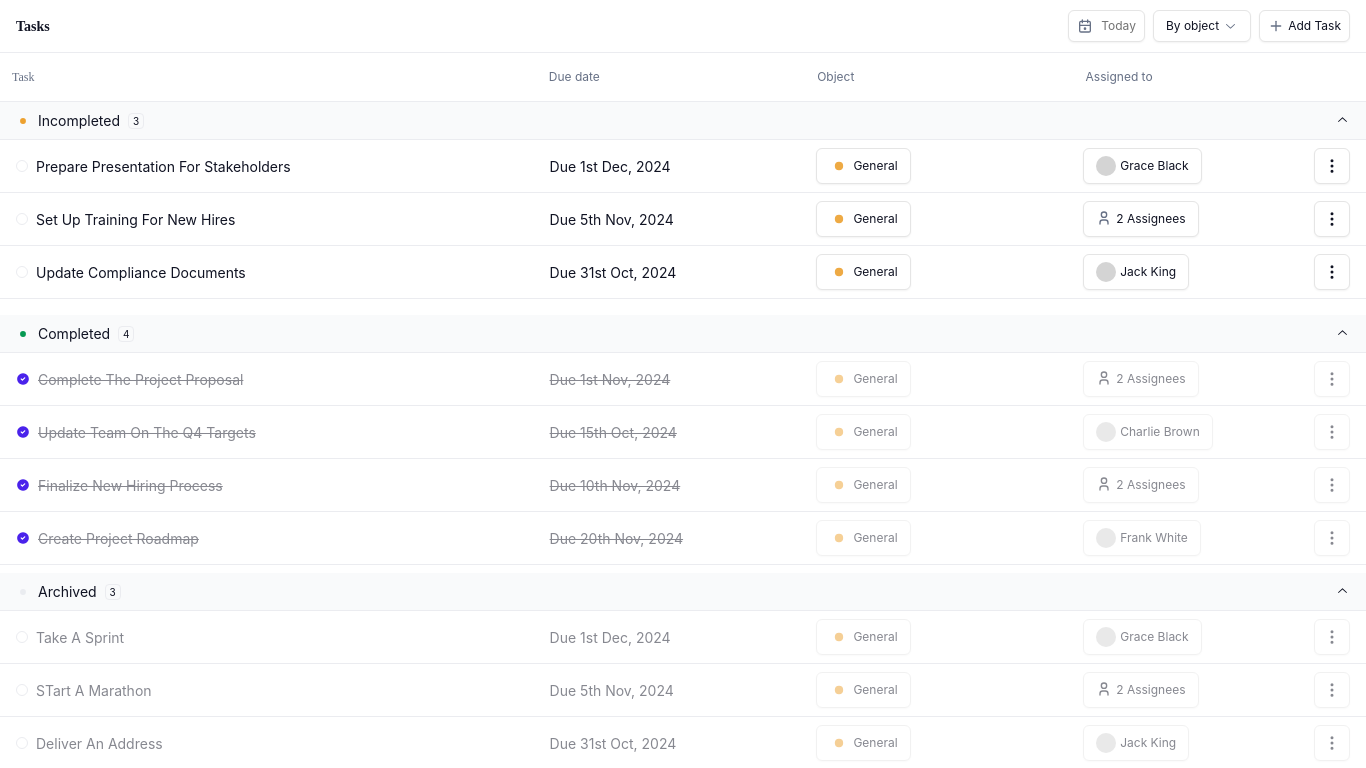
Test: MemberProfileTasksUI › toggles the viewing of completed tasks
This screenshot has width=1366, height=768.
Expected: the element with test id "completed-task-component" is shown, [0, 353, 1365, 573]
Click the element with test id "view-completed" at (683, 334), box [0, 315, 1365, 353]
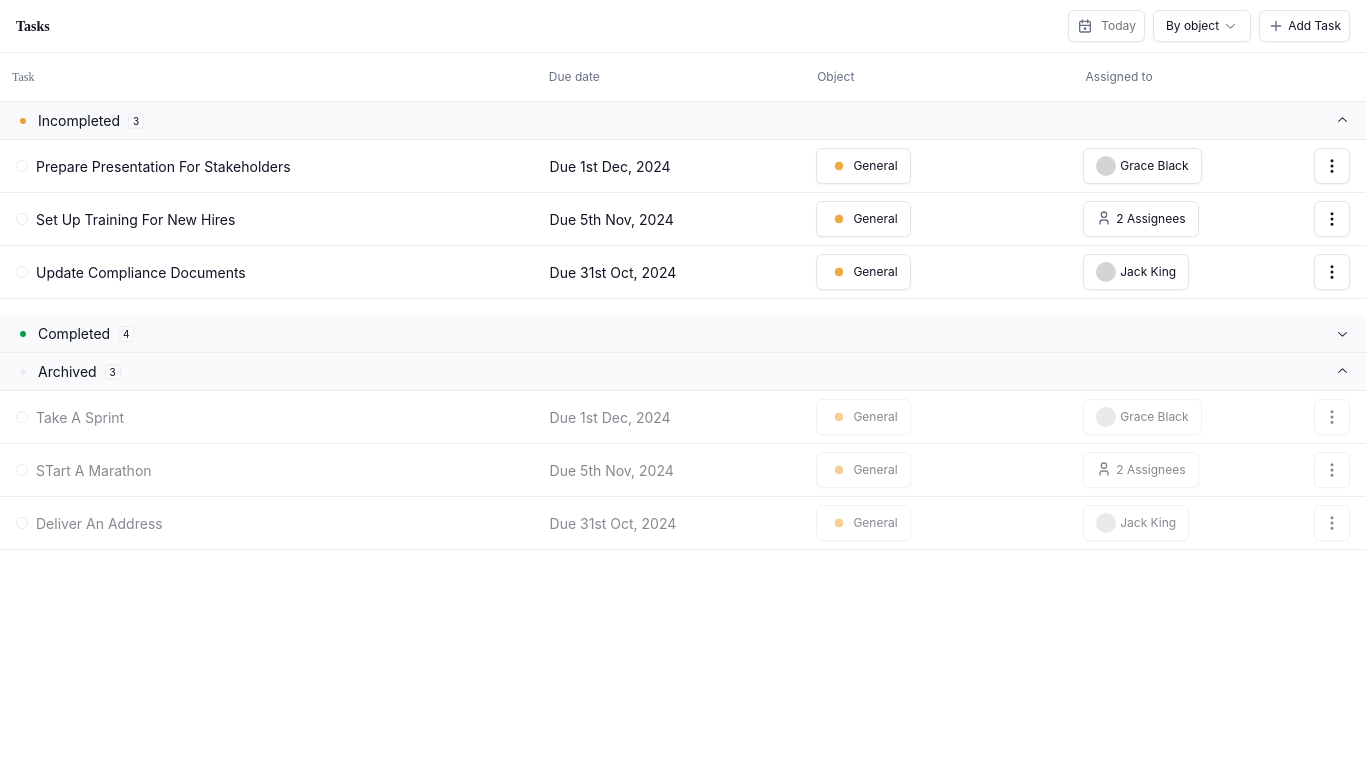
Expected: the element with test id "completed-task-component" is gone
